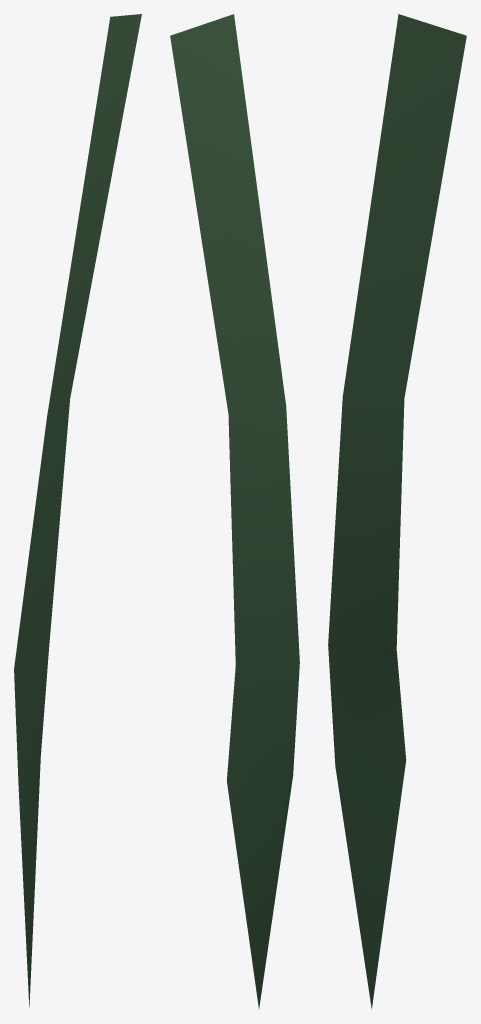
File: trees-grasses-grass-blade_v1.glb
3 views of the same model, side by side, from view 1: azimuth 30°, elevation 25°; view 2: azimuth 150°, elevation 25°; view 3: azimuth 330°, elevation 25° (orthographic). The views are drawn at different scales.
Parts seen in each view (by area): view 1: Grass Blade_v1; view 2: Grass Blade_v1; view 3: Grass Blade_v1.
Boxes of the visible parts, x1,y1,x2,y2 form: Grass Blade_v1: (14, 14, 141, 1007); Grass Blade_v1: (170, 14, 299, 1008); Grass Blade_v1: (328, 14, 466, 1009).
Bounding box in the file's own units: 0.0412 × 0.3 × 0.0209.
